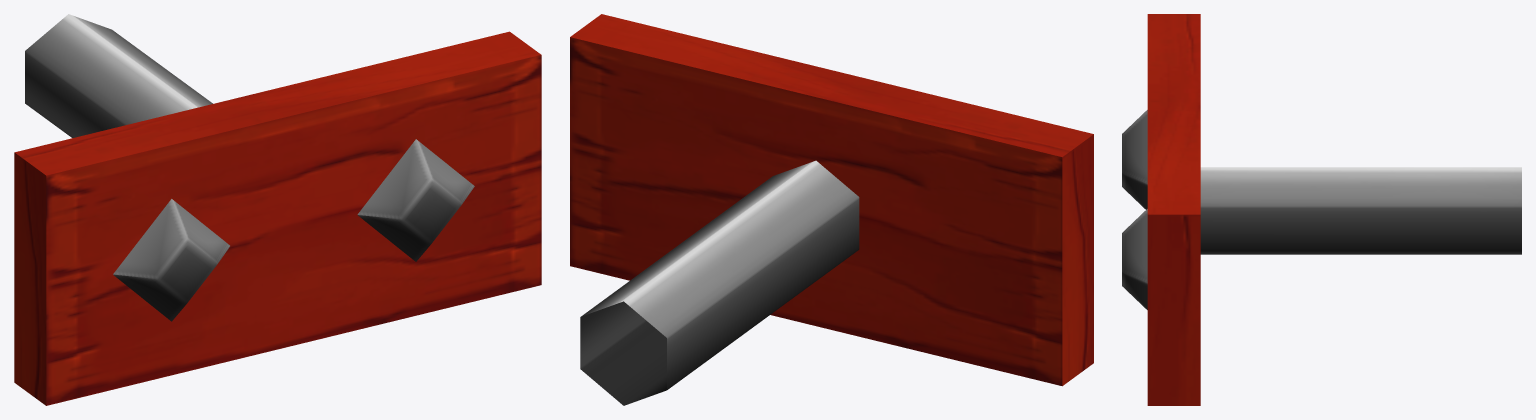
The model's file is wall_red_01.fbx.
3 renders of one model, left to right at view 1: azimuth 30°, elevation 25°; view 2: azimuth 150°, elevation 25°; view 3: azimuth 270°, elevation 25°, orthographic. The views are drawn at different scales.
Visible parts, largest first — view 1: wall_5, spring_2; view 2: wall_5, spring_2; view 3: spring_2, wall_5.
Part boxes in pixels (x1,y1,x2,y2): wall_5: [14, 31, 541, 405]; spring_2: [25, 14, 212, 137]; wall_5: [570, 14, 1093, 386]; spring_2: [580, 160, 859, 405]; spring_2: [1200, 167, 1521, 254]; wall_5: [1122, 14, 1200, 405].
Size of the model in its own units: 90 by 40 by 75.79.
